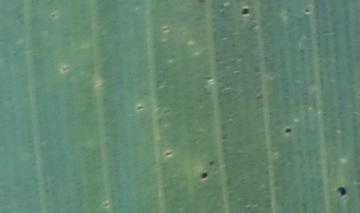tarspot: (337, 186, 347, 196), (200, 171, 209, 180), (136, 102, 145, 111), (163, 150, 173, 158), (61, 65, 71, 73), (241, 6, 250, 14), (304, 7, 312, 15), (283, 127, 292, 134), (101, 201, 110, 208), (49, 12, 57, 19), (208, 160, 215, 165)
